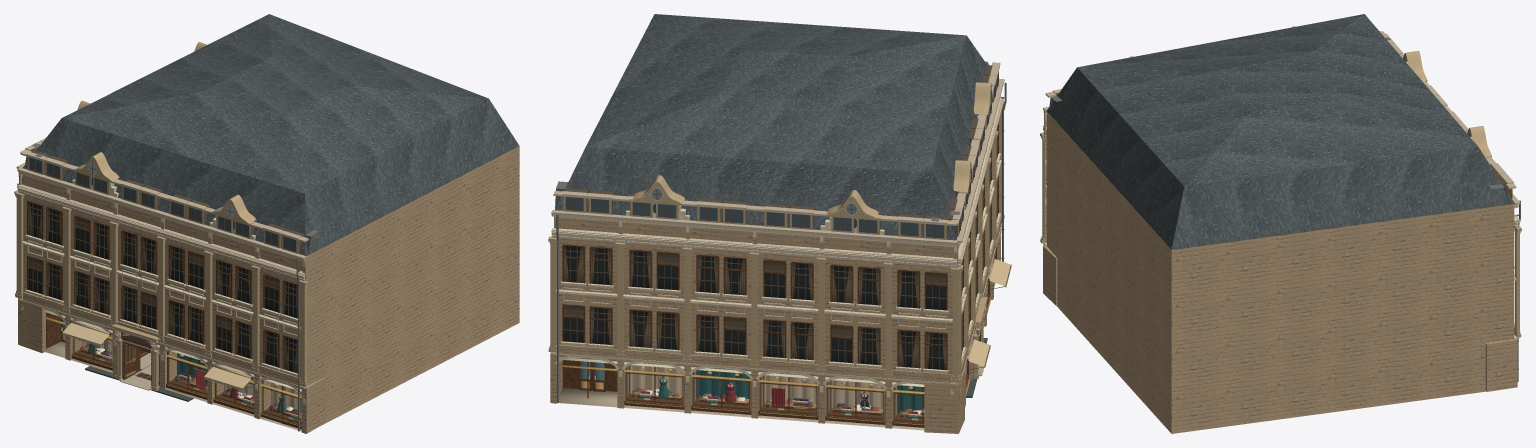
The picture shows the model from 3 angles, left to right: view 1: azimuth 30°, elevation 25°; view 2: azimuth 150°, elevation 25°; view 3: azimuth 270°, elevation 25°; orthographic projection. The views are drawn at different scales.
Parts seen in each view (by area): view 1: SG_Bestand_Laden_Auslagen, SG_Platzfront_Detail, Baukörper · Eiche, Baukörper · Terrazzo; view 2: SG_Bestand_Laden_Auslagen, SG_Seitenfront_Detail, SG_Platzfront_Detail; view 3: SG_Bestand_Laden_Auslagen, SG_Seitenfront_Detail, SG_Platzfront_Detail.
Part boxes in pixels (x1,y1,x2,y2): SG_Bestand_Laden_Auslagen: (18,14,519,433); SG_Platzfront_Detail: (15,143,318,431); Baukörper · Eiche: (122,342,159,385); Baukörper · Terrazzo: (120,353,151,390); SG_Bestand_Laden_Auslagen: (550,14,1001,433); SG_Seitenfront_Detail: (548,175,960,426); SG_Platzfront_Detail: (931,61,1011,392); SG_Bestand_Laden_Auslagen: (1043,14,1518,433); SG_Seitenfront_Detail: (1382,31,1521,381); SG_Platzfront_Detail: (1040,26,1390,245).
Size of the model in its own units: 30.48 by 17.74 by 30.36.
69 materials, 21 textured.
